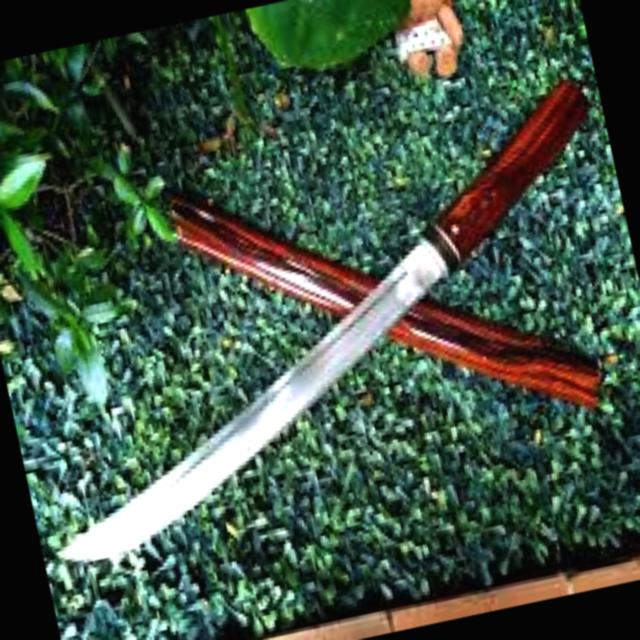long sword: (0, 69, 640, 576)
